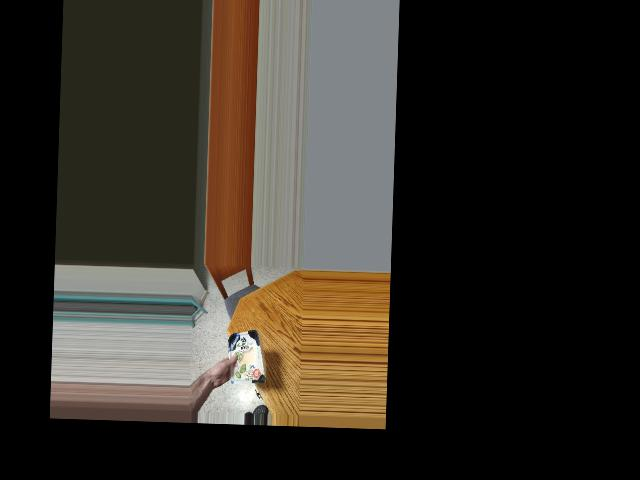cheese: (220, 332, 265, 377)
